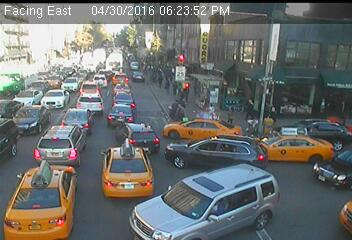neg: (146, 119, 205, 198), (21, 117, 73, 187), (238, 139, 289, 207), (77, 56, 118, 110), (265, 58, 296, 100), (171, 39, 199, 76), (220, 41, 242, 71)
pos: (226, 103, 242, 124), (167, 98, 182, 117)
